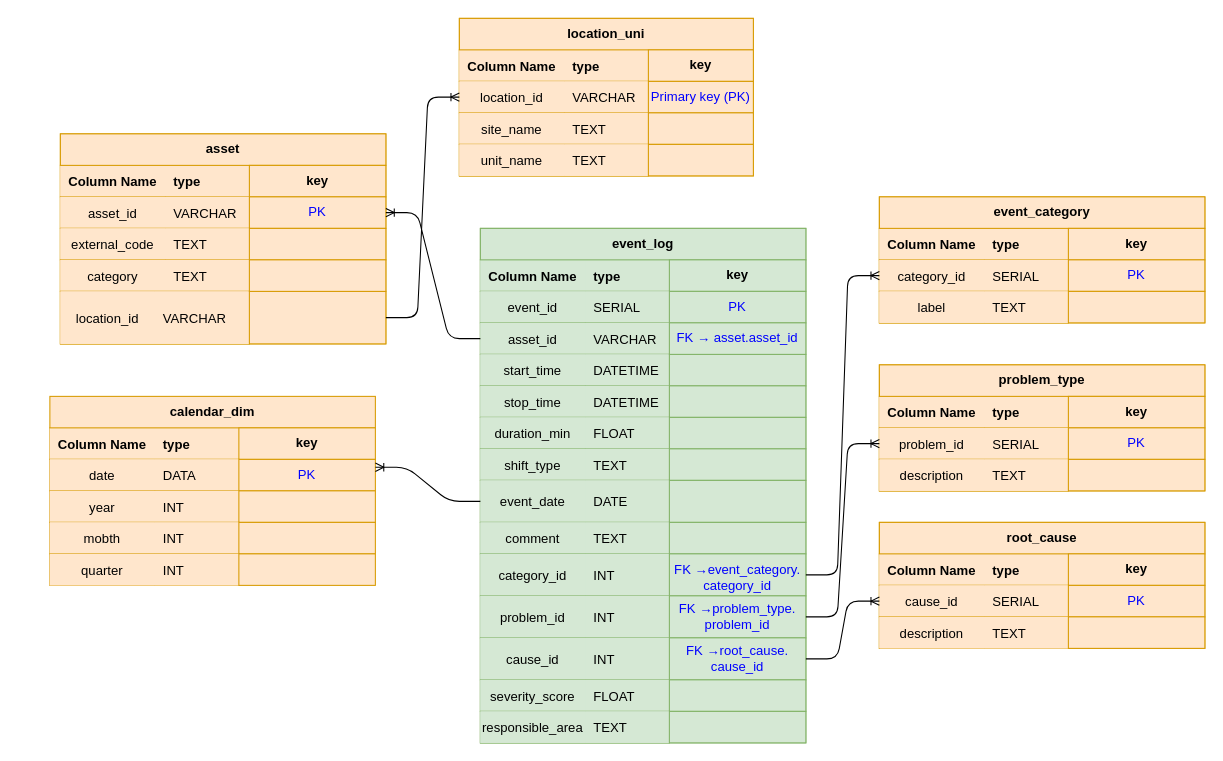
This 1223x761 diagram has some shape labels left out. Here are the shapes that lost their labels. From the top down, the centre of each, then its label:
the point at 317,317: Foreign key (FK) → location_unit. location_id
the point at 737,500: FK →calendar_dim. date
